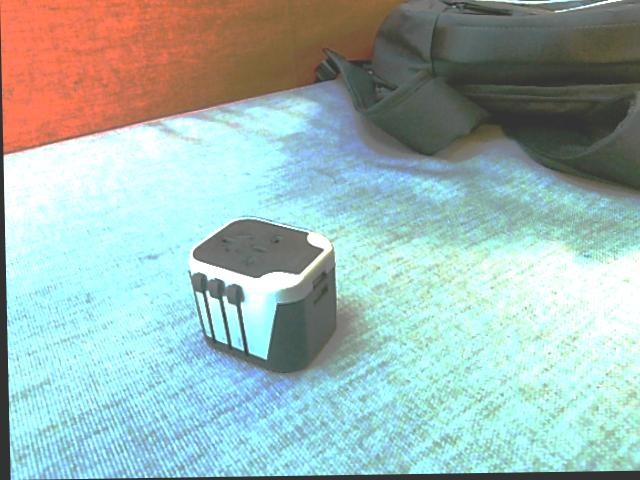adapter: (184, 215, 336, 375)
